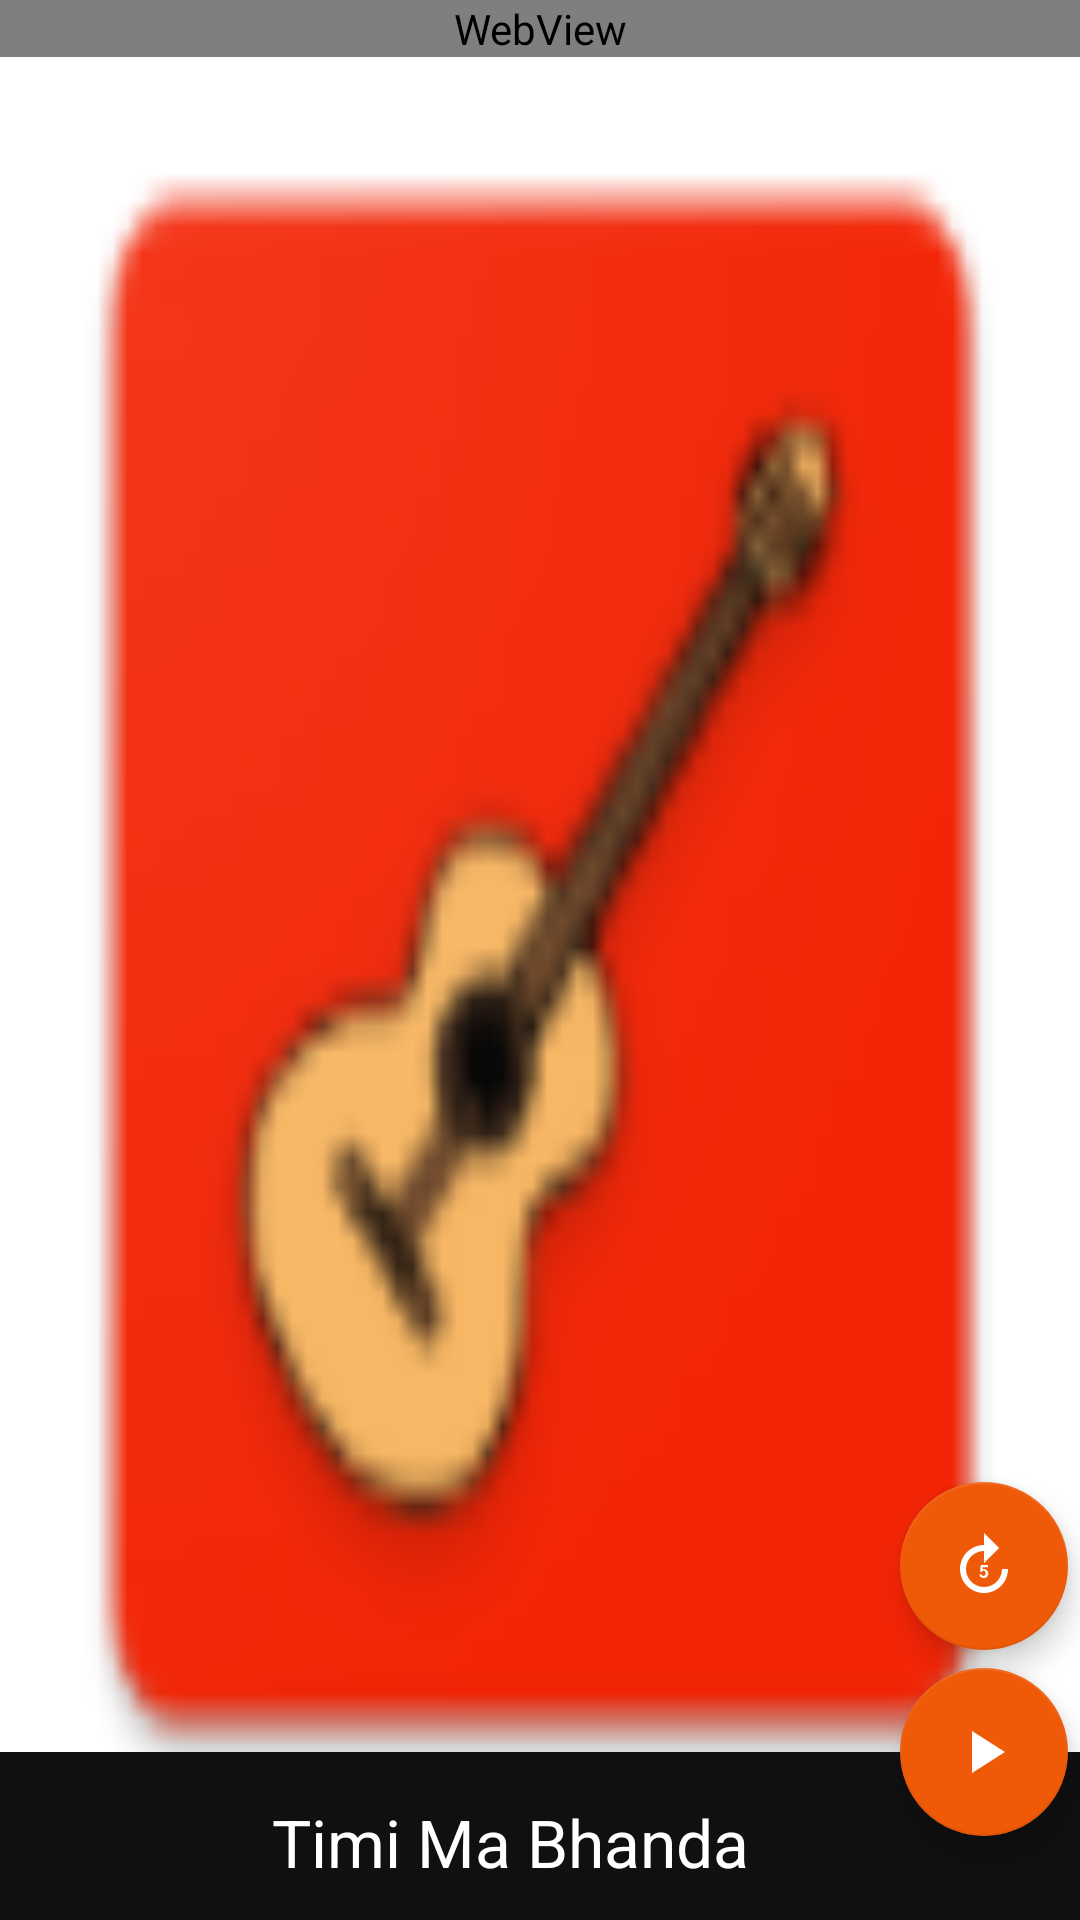

Icons on this 1080×1920 Android screen, each with the point to tap as (x,y):
forward: (984,1566)
play arrow: (984,1752)
